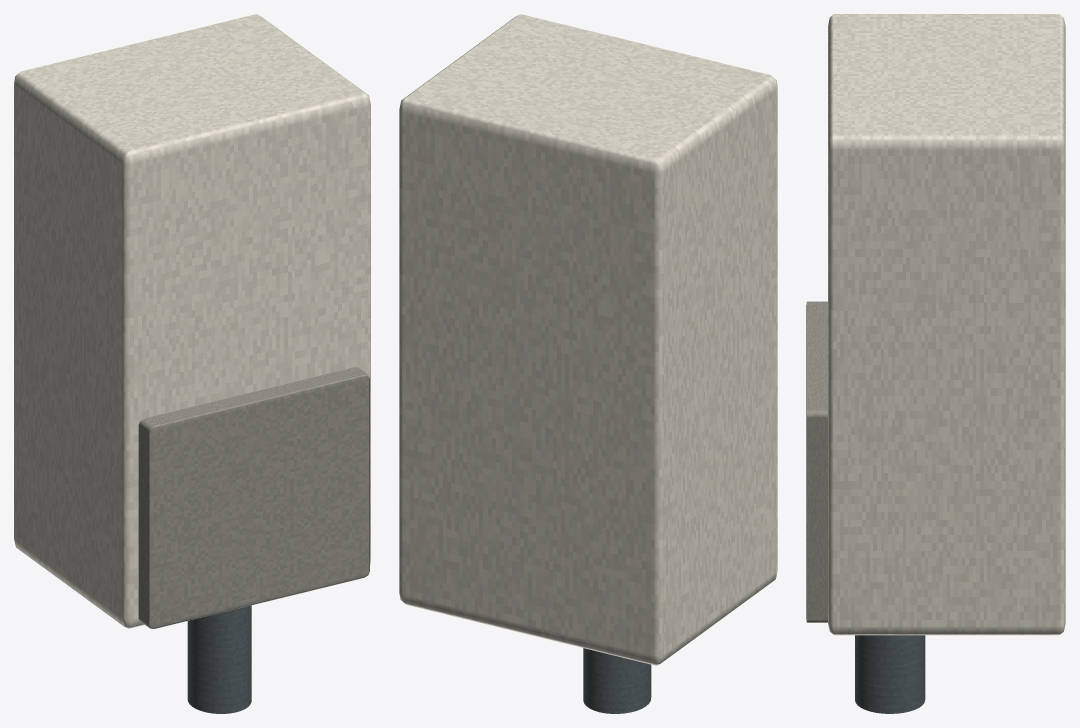
The model's file is soap.glb.
3 views of the same model, side by side, from view 1: azimuth 30°, elevation 25°; view 2: azimuth 150°, elevation 25°; view 3: azimuth 270°, elevation 25° (orthographic). The views are drawn at different scales.
Visible parts, largest first — view 1: reservoir, push, tip; view 2: reservoir, tip; view 3: reservoir, push, tip.
Part boxes in pixels (<box>): reservoir: <box>14,14,370,628</box>; push: <box>138,367,369,628</box>; tip: <box>187,605,251,713</box>; reservoir: <box>399,14,777,665</box>; tip: <box>583,648,651,713</box>; reservoir: <box>828,14,1065,635</box>; push: <box>806,301,827,622</box>; tip: <box>855,635,925,713</box>.
Size of the model in its own units: 0.1001 by 0.23 by 0.0864.
3 materials, 3 textured.
